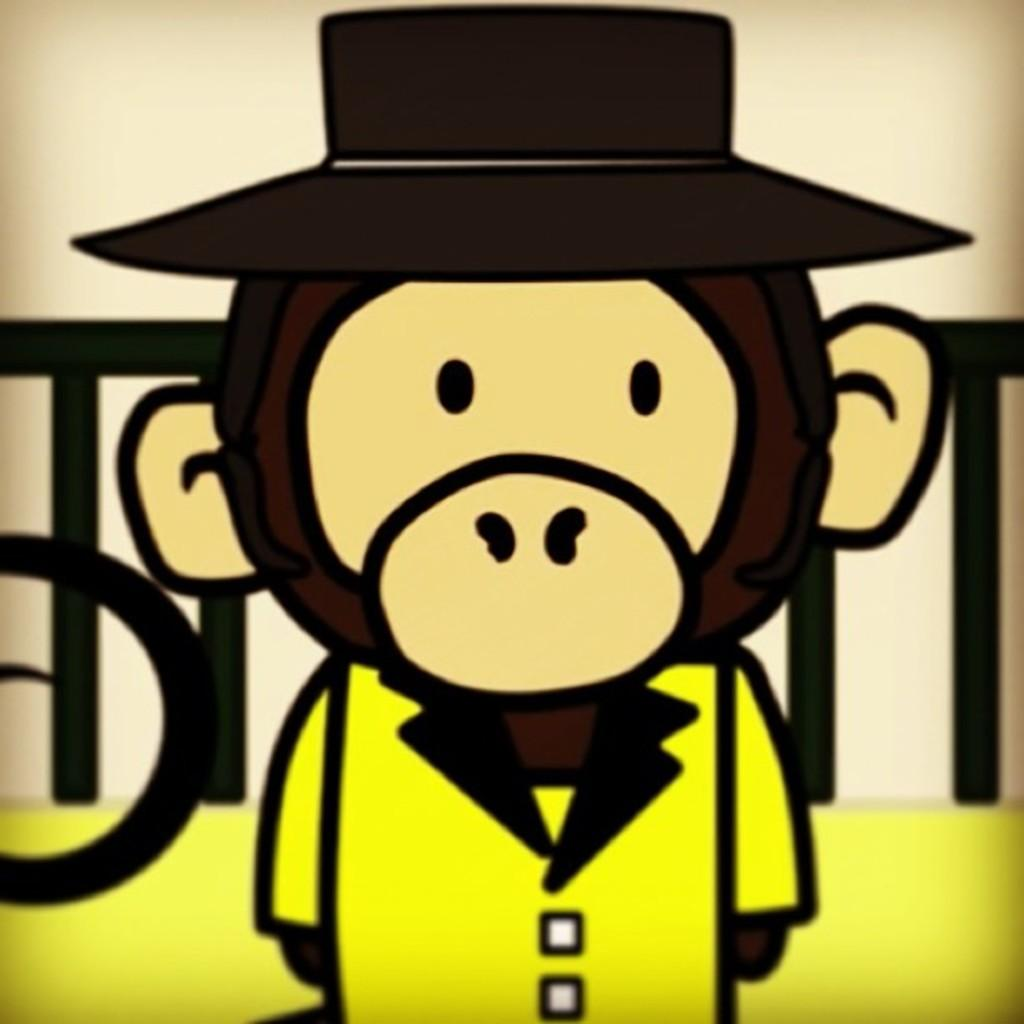Hat: (72, 0, 980, 284)
